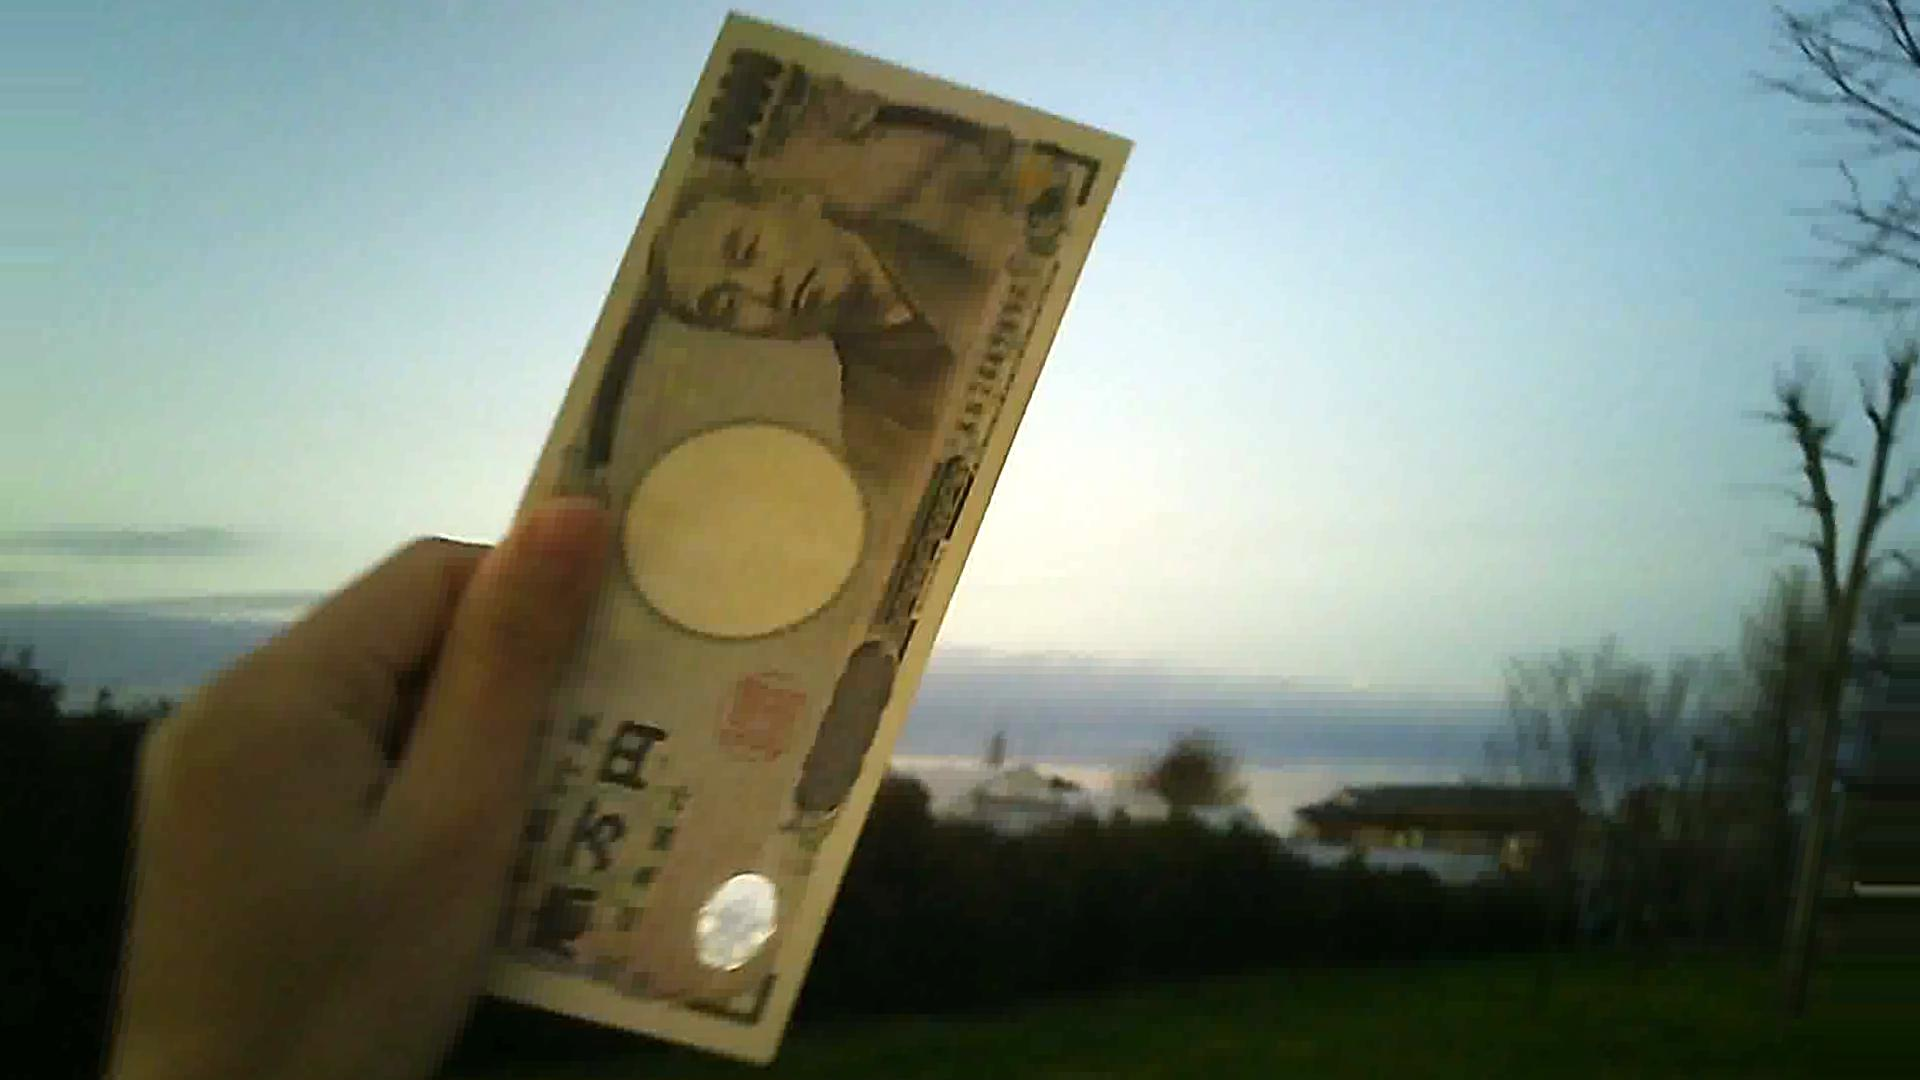10,000 Yen: (377, 16, 1106, 1062)
